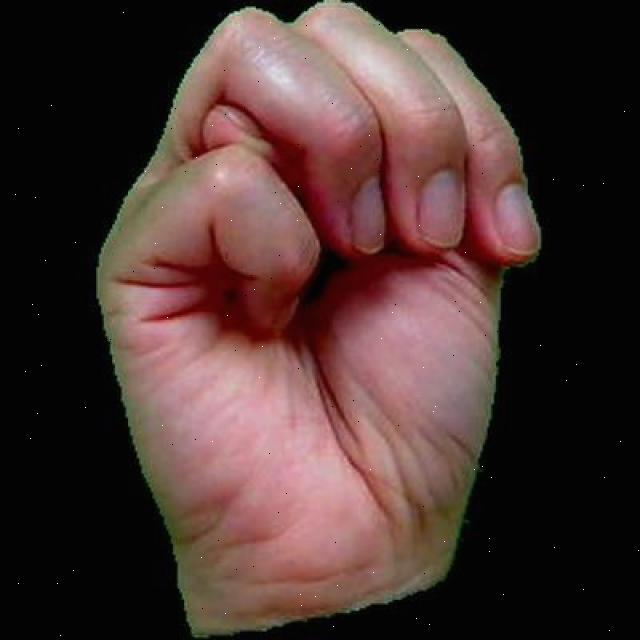m: (74, 0, 556, 637)
